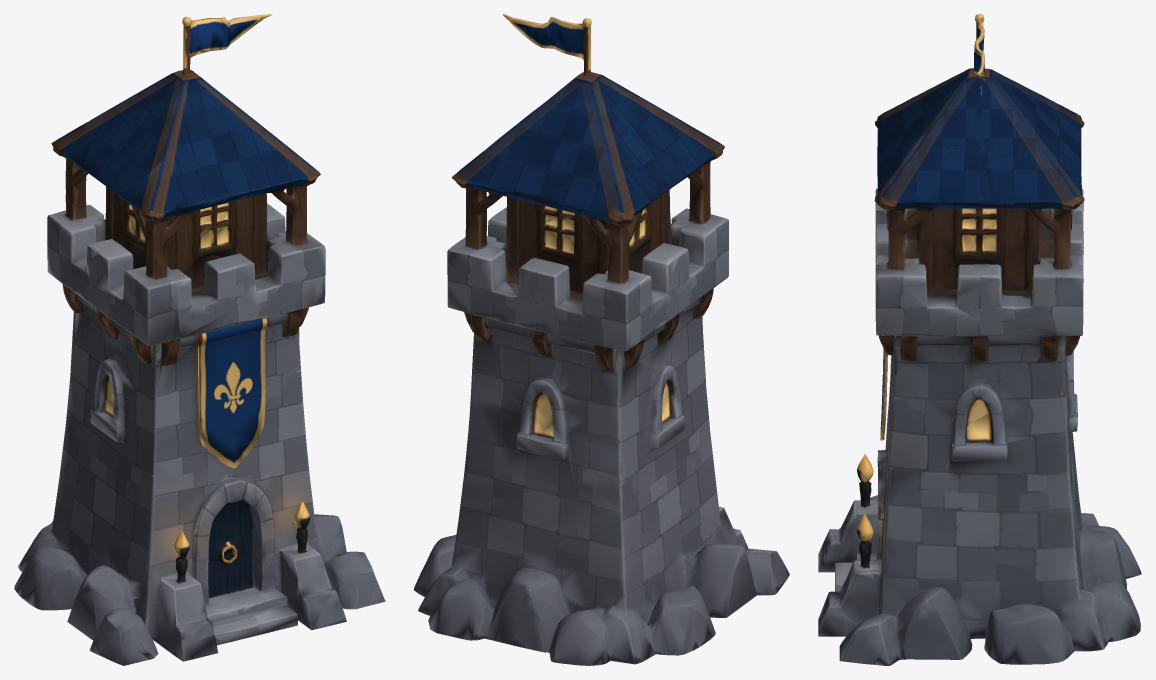
File: tower.glb
The picture shows the model from 3 angles, left to right: view 1: azimuth 30°, elevation 25°; view 2: azimuth 150°, elevation 25°; view 3: azimuth 270°, elevation 25°; orthographic projection. The views are drawn at different scales.
Size of the model in its own units: 0.9835 by 1.9 by 0.9565.
Materials: 1 (1 with a texture image).
